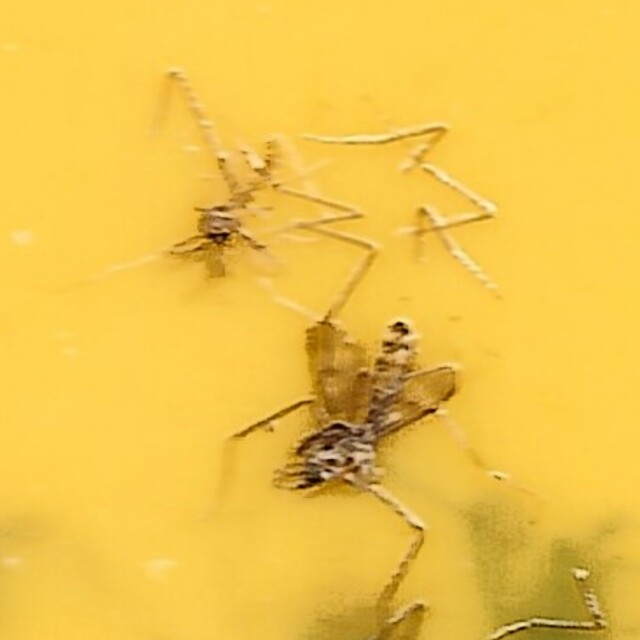Nematocera: (276, 321, 466, 501), (174, 139, 286, 274)
